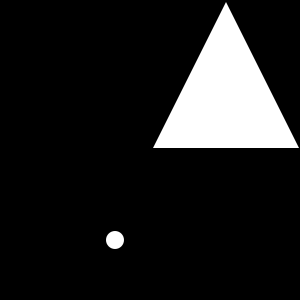rectangle: (106, 231, 124, 249)
triangle: (153, 2, 299, 148)
